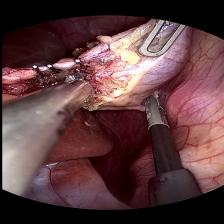Clipper: (59, 71, 99, 101)
Grasper: (136, 16, 186, 58), (140, 92, 172, 128)
